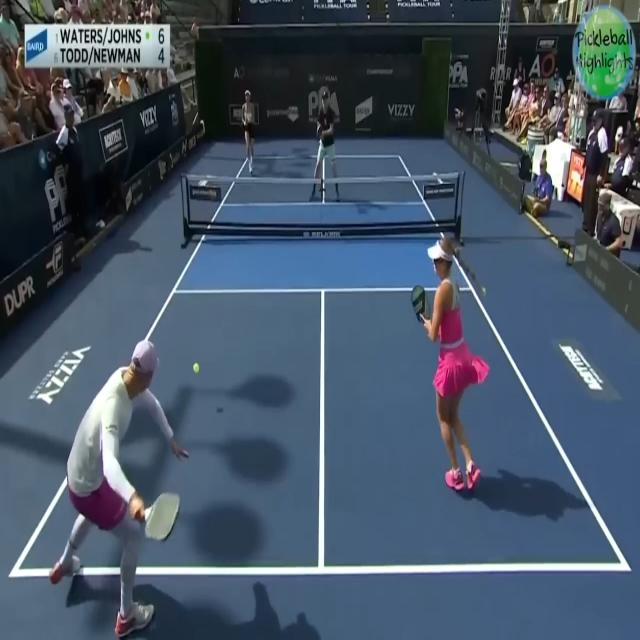Pickleball: (479, 282, 488, 298), (192, 360, 200, 376)
